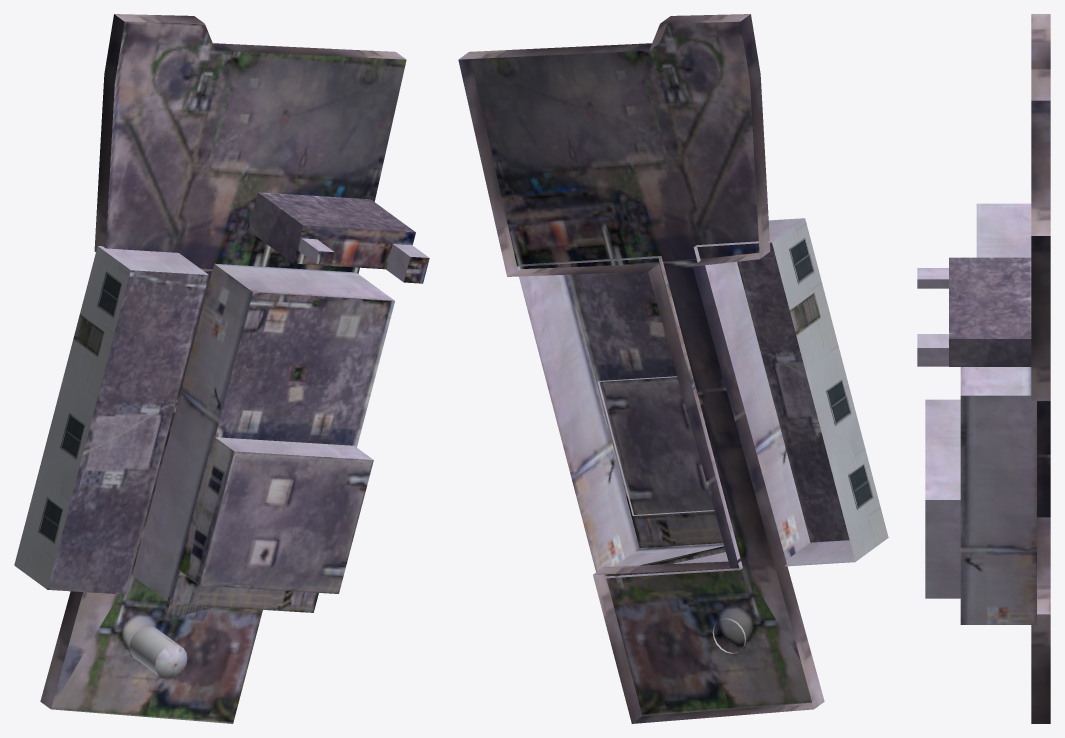
File: building_p5_07_06.fbx
The picture shows the model from 3 angles, left to right: view 1: azimuth 30°, elevation 25°; view 2: azimuth 150°, elevation 25°; view 3: azimuth 270°, elevation 25°; orthographic projection. The views are drawn at different scales.
Parts seen in each view (by area): view 1: Building_P5_07_06; view 2: Building_P5_07_06; view 3: Building_P5_07_06.
Part boxes in pixels (x1,y1,x2,y2): Building_P5_07_06: (14, 14, 429, 723); Building_P5_07_06: (458, 14, 888, 723); Building_P5_07_06: (917, 14, 1050, 723).
Bounding box in the file's own units: 2354 × 4209 × 769.
